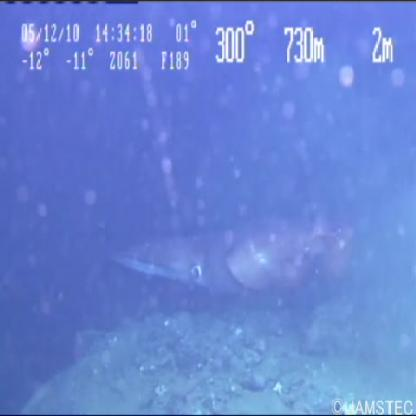Bio: (112, 218, 362, 308)
